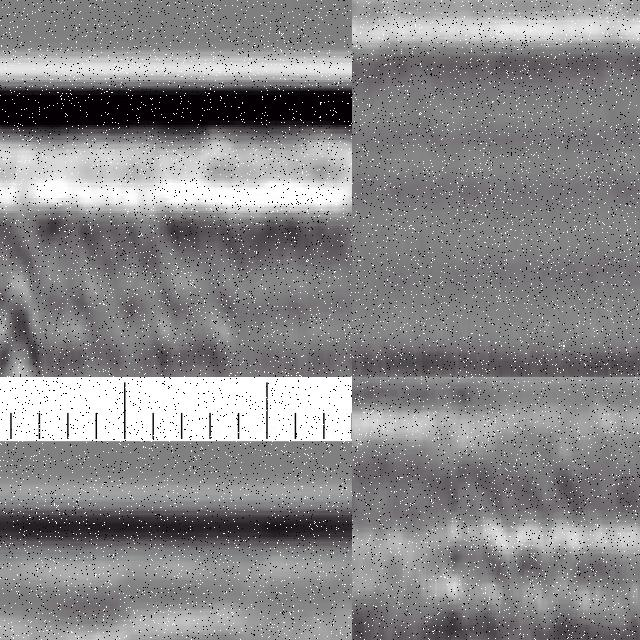loose: (1, 231, 63, 378)
